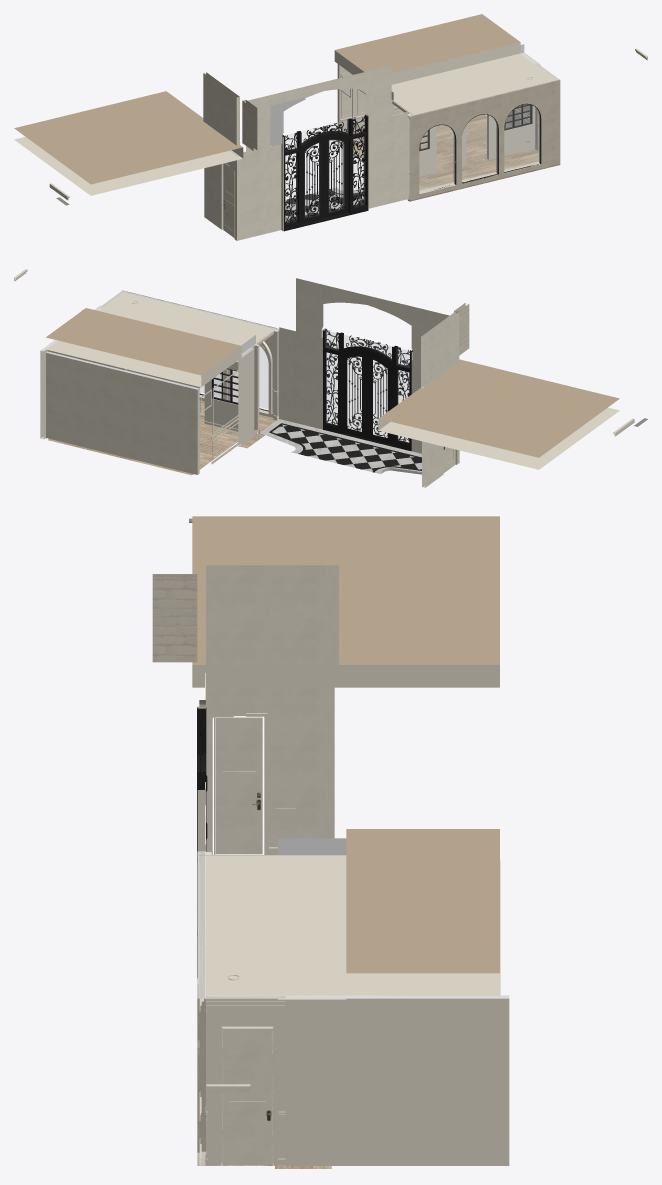
Rendered from office-hall-b9d678e16922.glb.
3 renders of one model, top to bottom at view 1: azimuth 30°, elevation 25°; view 2: azimuth 150°, elevation 25°; view 3: azimuth 270°, elevation 25°, orthographic. The views are drawn at different scales.
Visible parts, largest first — view 1: office-hall-look-2575515a05775d9e, office-hall-look-d5a4a1b5d3594c04, office-hall-c9e78b9ec1bb39cd, office-hall-dbd60ee5c3733ed6, office-hall-look-34525a54e63b733b, office-hall-look-bce662e26d5a5947, office-hall-38561c12898e4d43, office-hall-c02a36d0521470a9, office-hall-5cbcc744e6f960f3, office-hall-look-dbd60ee5c3733ed6, office-hall-look-746250f96522f643, office-hall-c374268555806af8 (+19 smaller); view 2: office-hall-look-2575515a05775d9e, office-hall-look-19647d6da46c2b80, office-hall-look-d5a4a1b5d3594c04, office-hall-dbd60ee5c3733ed6, office-hall-look-34525a54e63b733b, office-hall-look-e388ad8855329420, office-hall-look-3231f73bae020736, office-hall-look-bce662e26d5a5947, office-hall-look-746250f96522f643, office-hall-look-b3086b8cd368d7da, office-hall-look-26f615ec640e02ab, office-hall-look-6a051330000fbca1 (+18 smaller); view 3: office-hall-look-2575515a05775d9e, office-hall-look-6a1144f4e43410bb, office-hall-look-746250f96522f643, office-hall-look-85f0fd939e0fcc78, office-hall-dbd60ee5c3733ed6, office-hall-look-dbd60ee5c3733ed6, office-hall-cf6d22c5317ced0b, office-hall-look-3322bc58bedf5620, office-hall-68d06b361ac47823, office-hall-look-5e296beffb47d853, office-hall-c9e78b9ec1bb39cd, office-hall-look-bce662e26d5a5947.
Boxes of the visible parts, x1,y1,x2,y2 form: office-hall-look-2575515a05775d9e: (14,14,520,195); office-hall-look-d5a4a1b5d3594c04: (236,112,407,240); office-hall-c9e78b9ec1bb39cd: (407,82,545,200); office-hall-dbd60ee5c3733ed6: (392,63,559,115); office-hall-look-34525a54e63b733b: (246,65,391,151); office-hall-look-bce662e26d5a5947: (282,114,368,231); office-hall-38561c12898e4d43: (419,125,454,191); office-hall-c02a36d0521470a9: (462,115,497,180); office-hall-5cbcc744e6f960f3: (504,104,539,170); office-hall-look-dbd60ee5c3733ed6: (391,44,540,100); office-hall-look-746250f96522f643: (203,72,239,145); office-hall-c374268555806af8: (407,148,560,201); office-hall-look-2575515a05775d9e: (46,308,619,469); office-hall-look-19647d6da46c2b80: (46,351,199,474); office-hall-look-d5a4a1b5d3594c04: (279,327,459,462); office-hall-dbd60ee5c3733ed6: (99,290,276,346); office-hall-look-34525a54e63b733b: (296,278,449,361); office-hall-look-e388ad8855329420: (272,424,421,471); office-hall-look-3231f73bae020736: (341,351,367,438); office-hall-look-bce662e26d5a5947: (323,328,412,451); office-hall-look-746250f96522f643: (421,311,459,388); office-hall-look-b3086b8cd368d7da: (325,331,409,442); office-hall-look-26f615ec640e02ab: (367,352,393,445); office-hall-look-6a051330000fbca1: (238,347,253,445); office-hall-look-2575515a05775d9e: (192,516,499,995); office-hall-look-6a1144f4e43410bb: (285,995,509,1165); office-hall-look-746250f96522f643: (206,565,338,664); office-hall-look-85f0fd939e0fcc78: (206,687,334,854); office-hall-dbd60ee5c3733ed6: (198,855,292,998); office-hall-look-dbd60ee5c3733ed6: (278,838,346,999); office-hall-cf6d22c5317ced0b: (222,1028,272,1164); office-hall-look-3322bc58bedf5620: (215,716,262,854); office-hall-68d06b361ac47823: (206,995,285,1165); office-hall-look-5e296beffb47d853: (152,574,197,662); office-hall-c9e78b9ec1bb39cd: (197,851,205,1151); office-hall-look-bce662e26d5a5947: (197,707,206,977).
Size of the model in its own units: 21.96 by 5.17 by 5.78.
29 materials, 7 textured.
